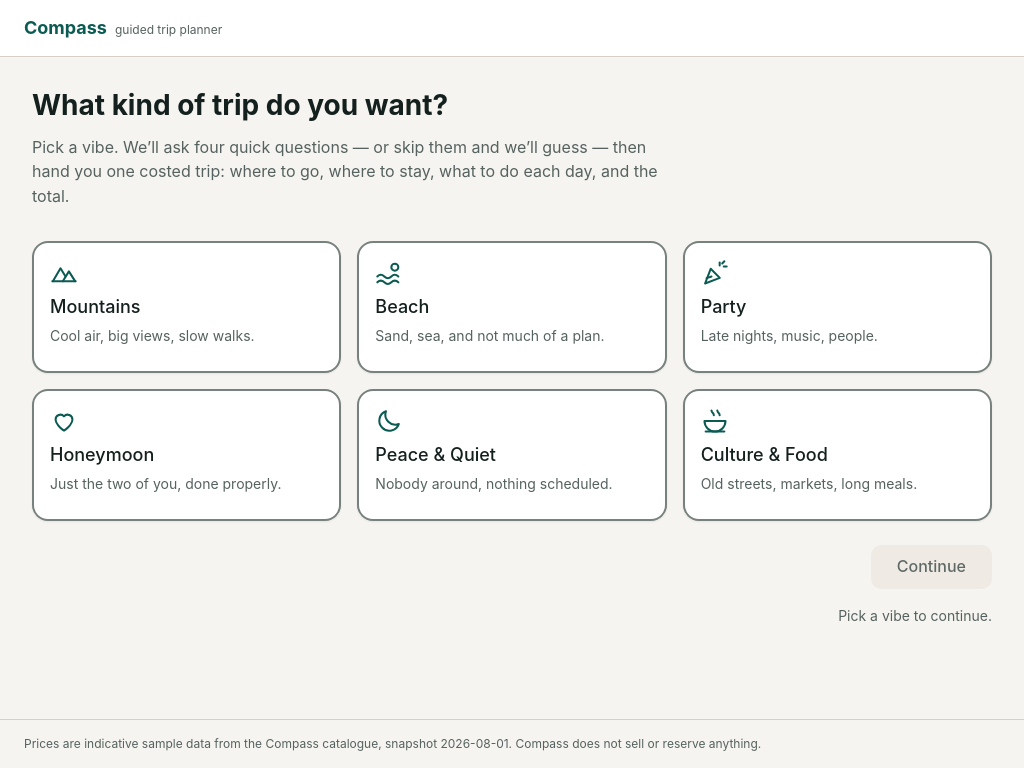
Test: the adjust panel (R12) › is disabled until a value actually differs, and says so
Click the button "Beach Sand, sea, and not much of a plan.".
click(402, 306)  # box [357, 241, 667, 373]
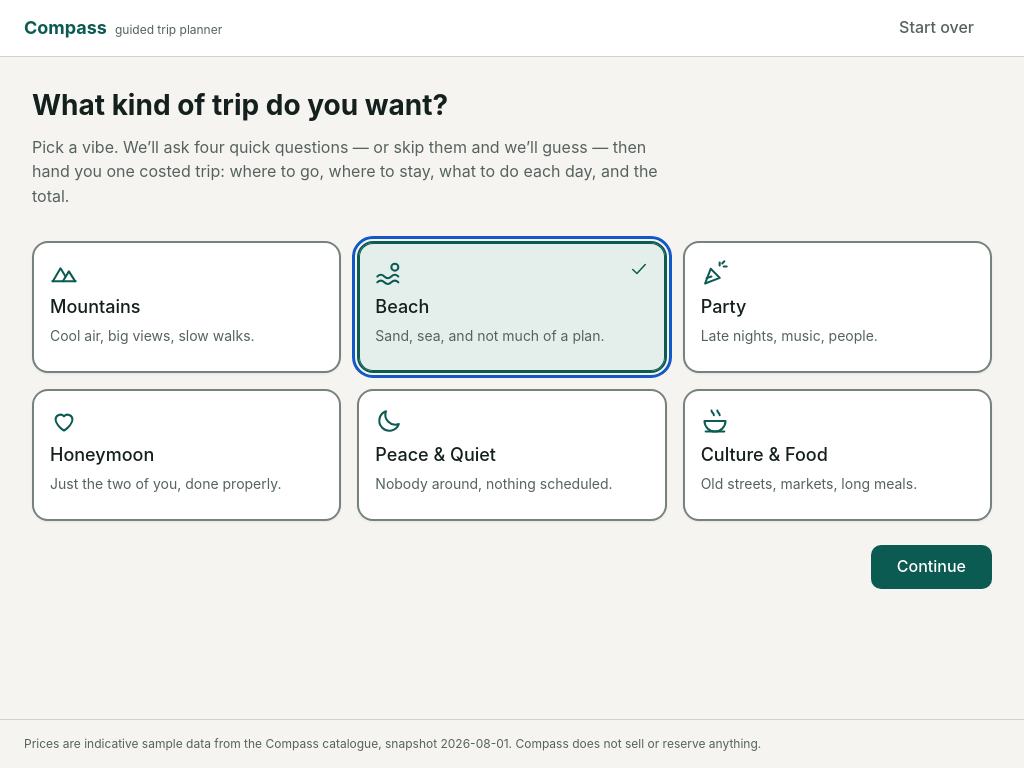
Click the button "Continue".
click(931, 567)  # box [871, 545, 992, 589]
(page scrolled)
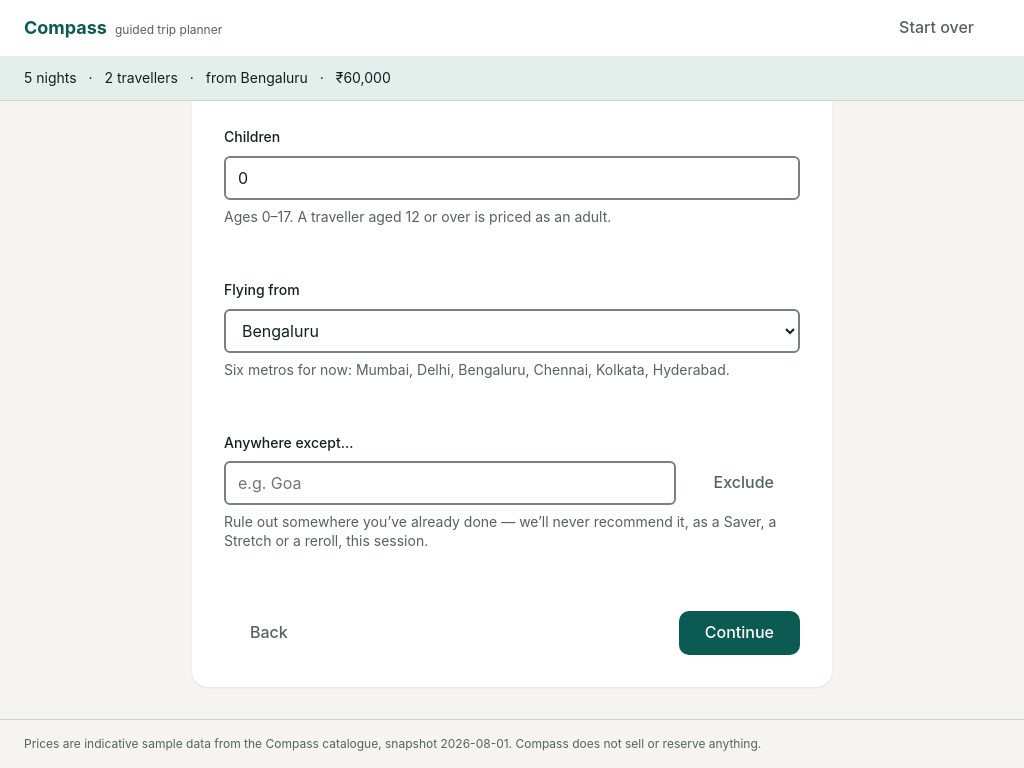
Click the button "Continue".
click(739, 633)  # box [679, 611, 800, 655]
(page scrolled)
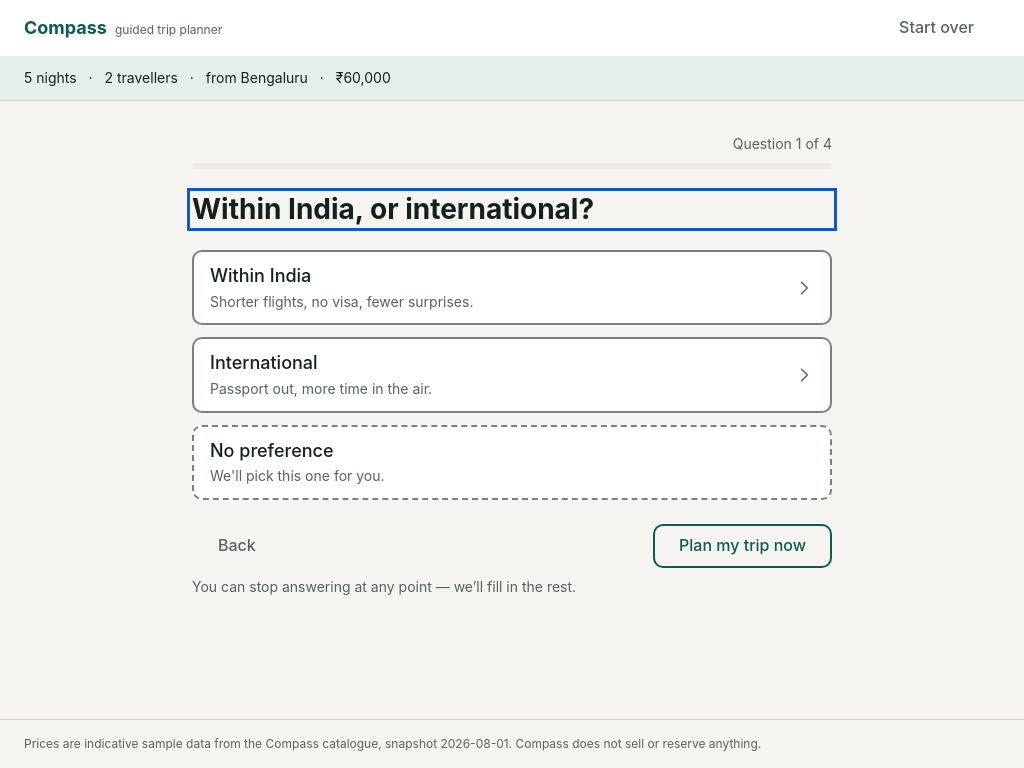
Now the text "Question 1 of 4" is shown, box [733, 135, 832, 152]
Click the button "Plan my trip now".
click(743, 546)  # box [653, 524, 832, 568]
(page scrolled)
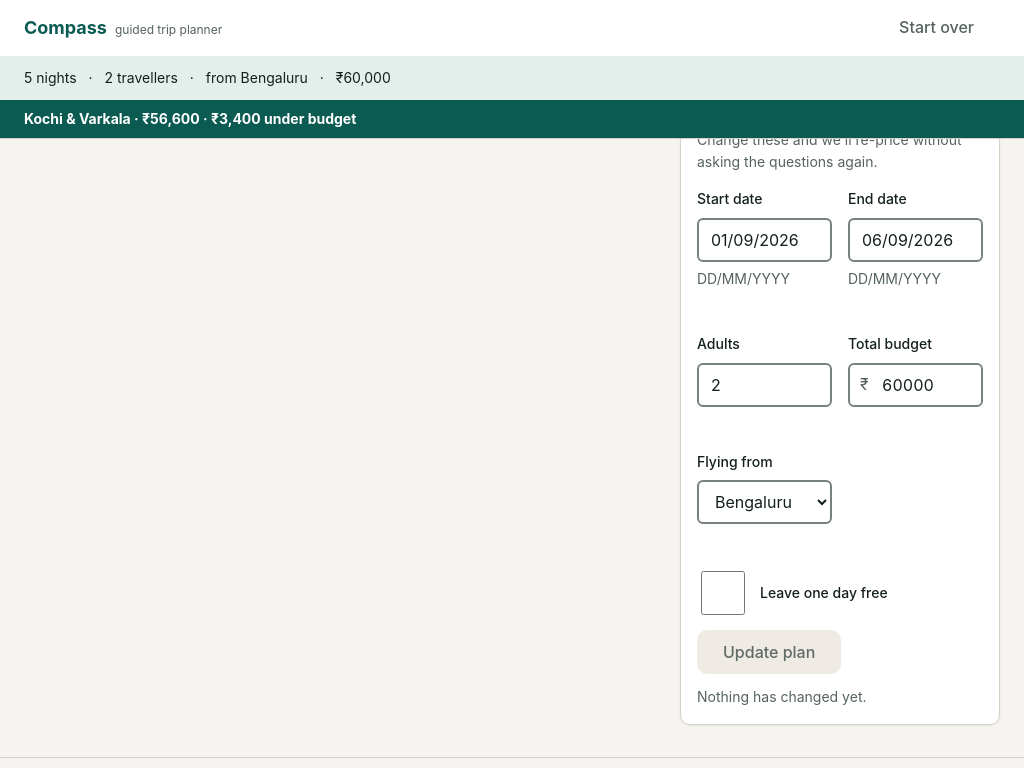
Now the button "Update plan" is disabled, box [697, 630, 841, 674]
Now the text "Nothing has changed yet." is shown, box [697, 686, 866, 708]
Replace the text in the number field labelled "Adults" with "4" at (764, 385), box [697, 363, 832, 407]
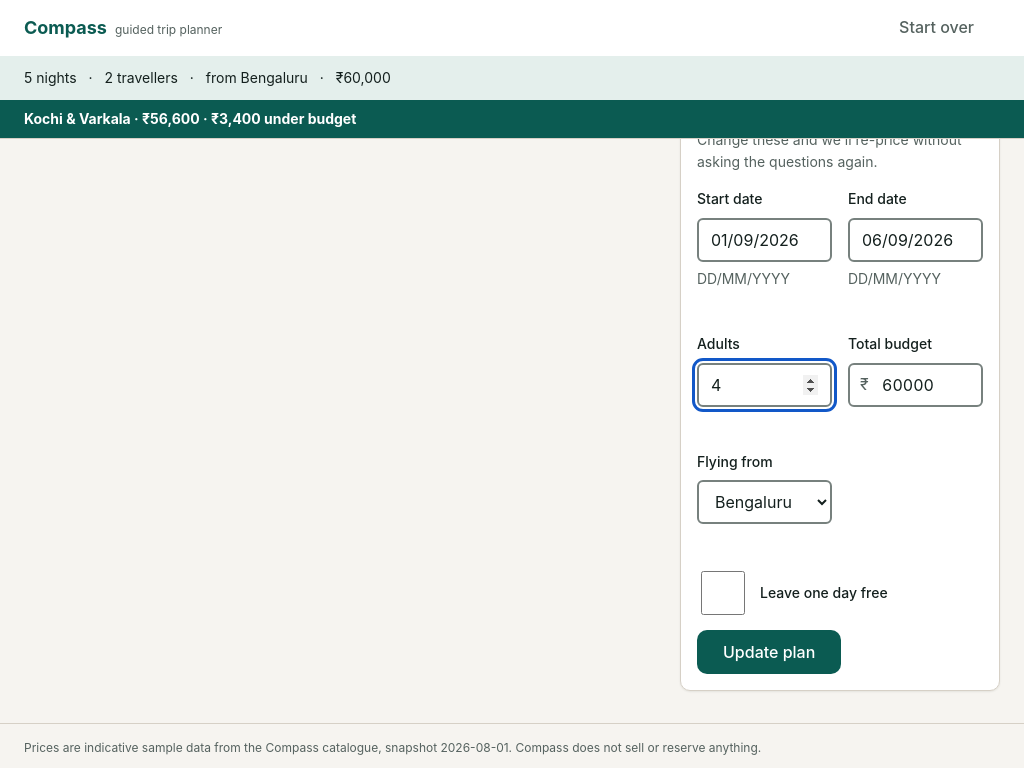
Expected: the text "Nothing has changed yet." is not shown
Now the button "Update plan" is enabled, box [697, 630, 841, 674]
Replace the text in the number field labelled "Adults" with "2" at (764, 385), box [697, 363, 832, 407]
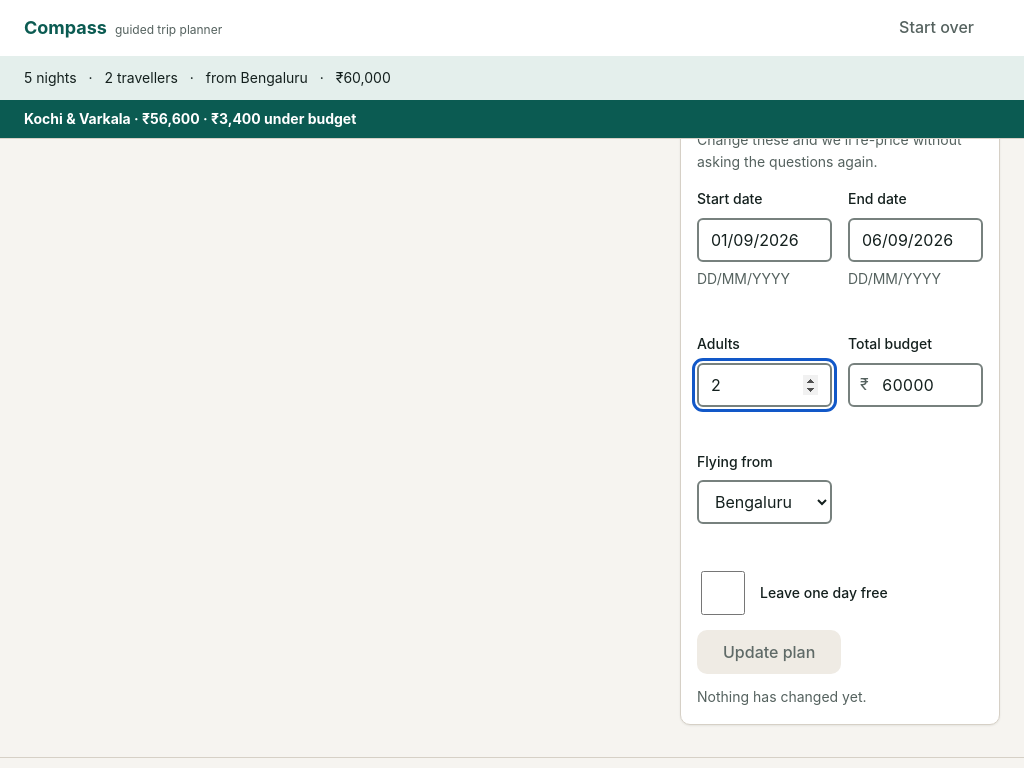
Now the button "Update plan" is disabled, box [697, 630, 841, 674]
